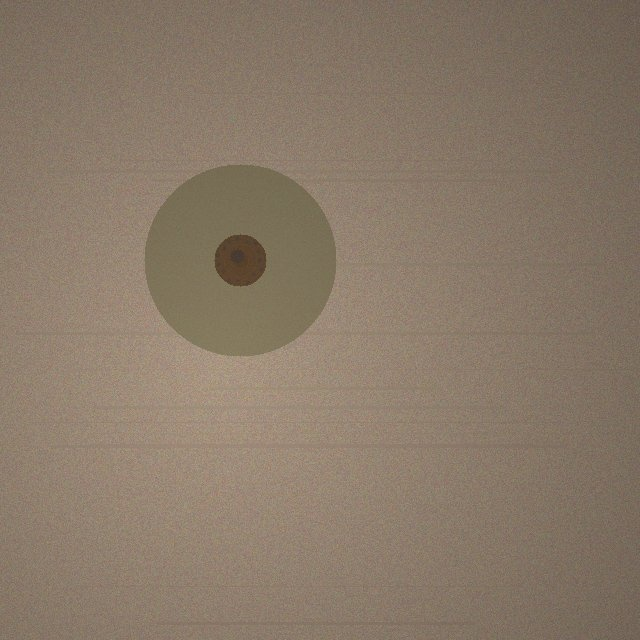cold_weld: (144, 164, 336, 356)
